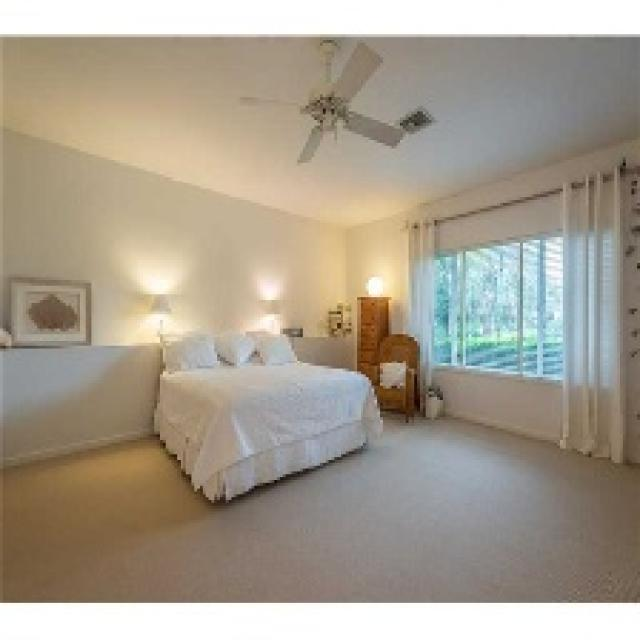Bed: (151, 328, 380, 503)
